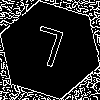L: (25, 25, 67, 78)
